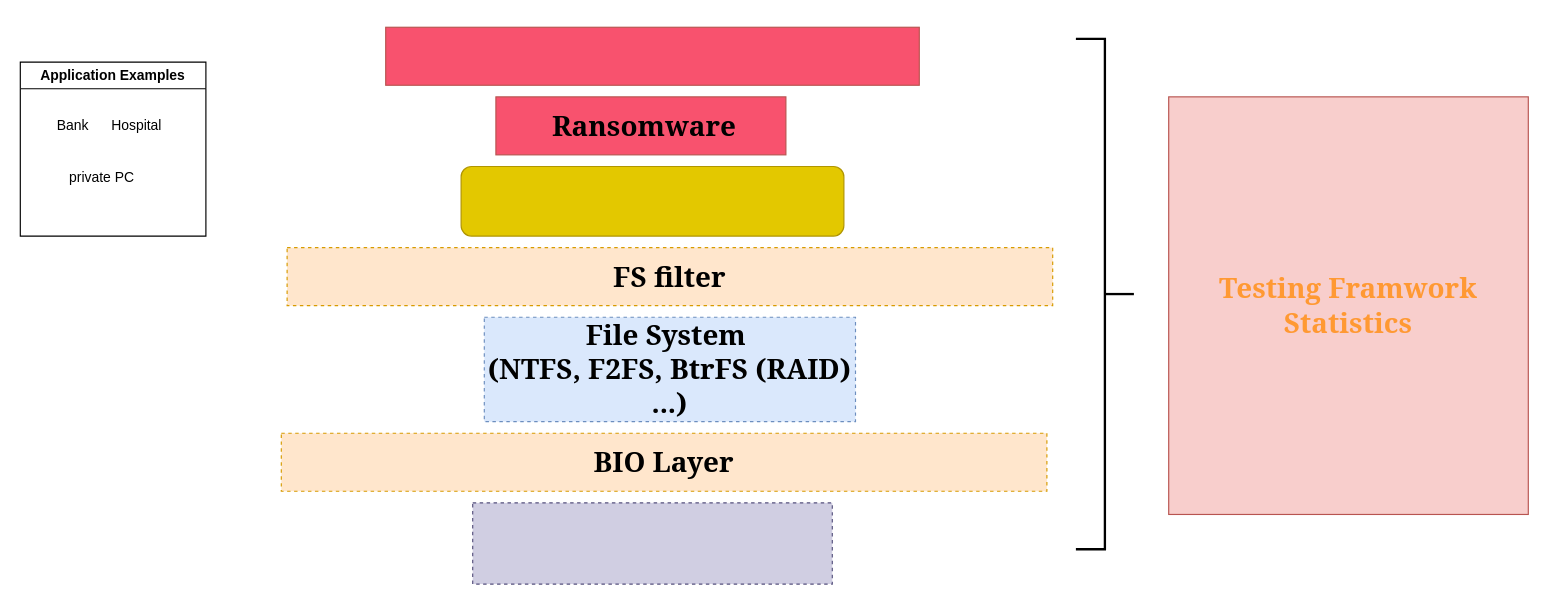
Image size: 1549x604. Some labels were removed from this diagram. The centre of each missing label's shape, as x and y in pixels:
Applications with Data Backup Policy: [652,200]
Storage Media: [652,543]
Testing Framwork Preprocessing: [652,55]
